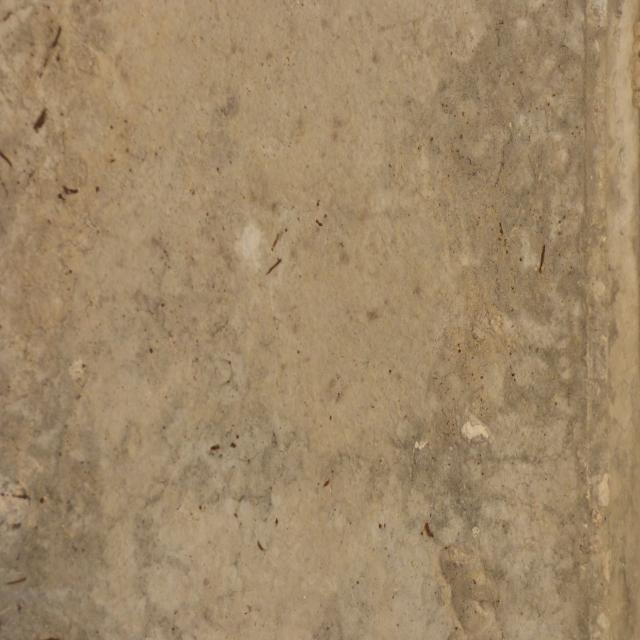corrosion: (198, 429, 459, 568), (486, 207, 581, 301)
